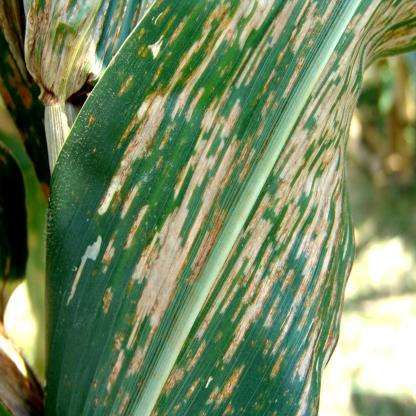Corn Gray leaf spot: (66, 1, 406, 416)
